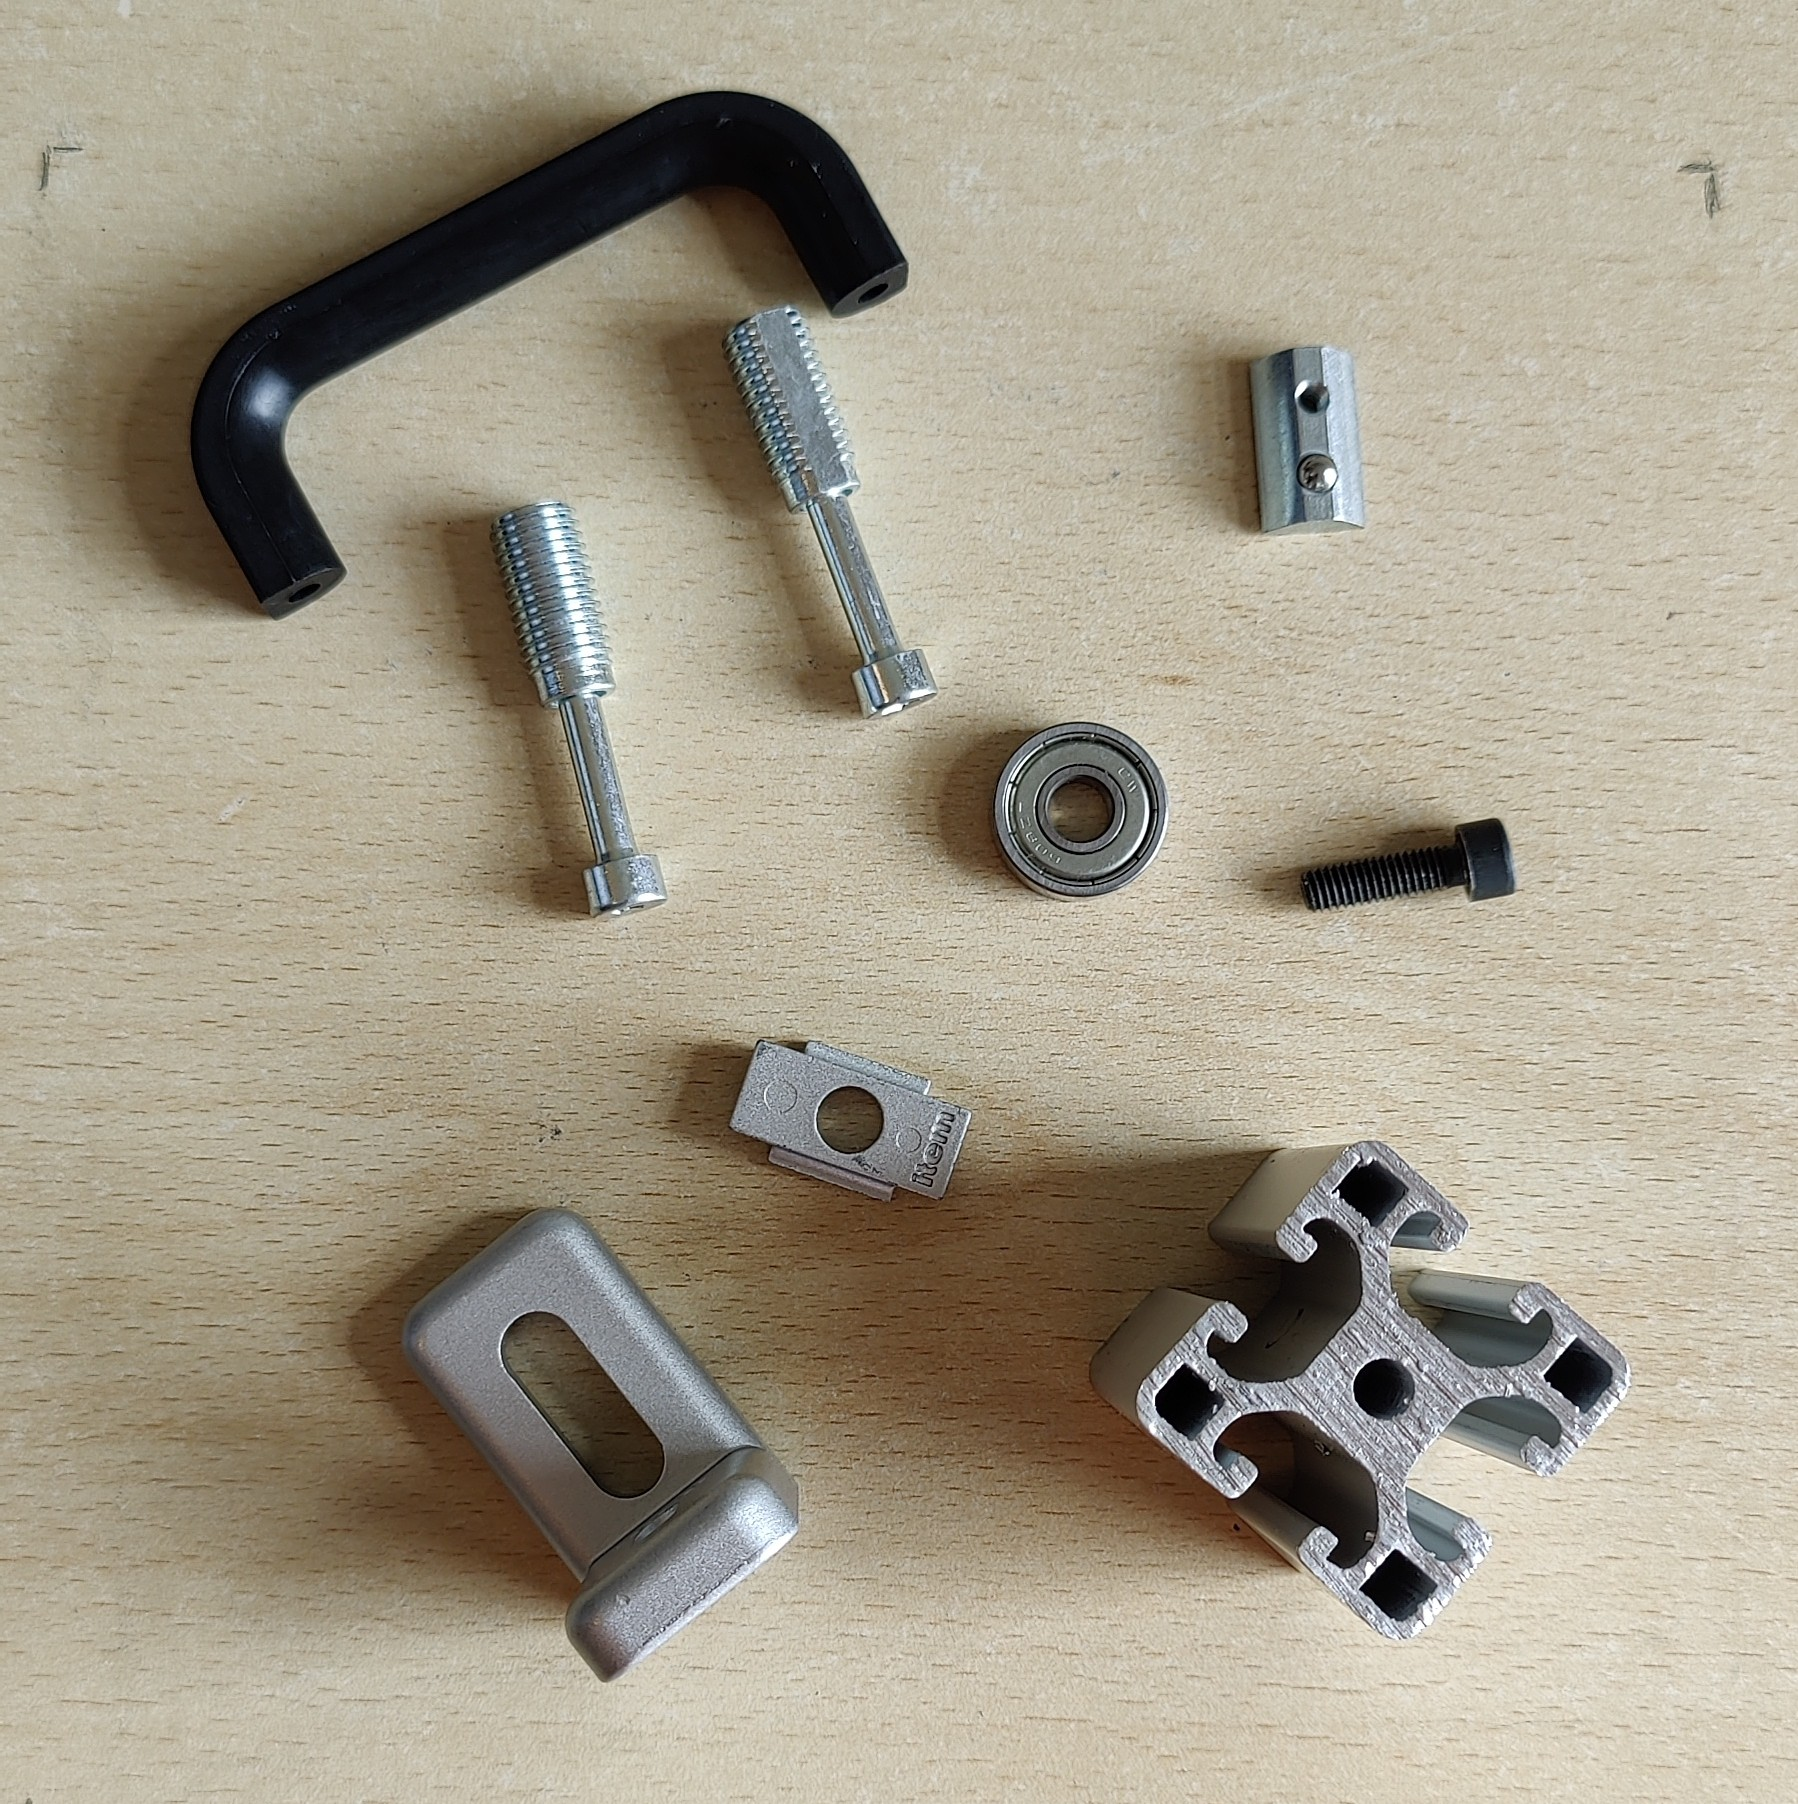Aluminium Extension: (1087, 1141, 1635, 1639)
Ball Bearing: (988, 721, 1171, 904)
Multiwinkel: (398, 1205, 804, 1685)
Pull Handle: (189, 89, 914, 622)
Shoulder Socket Head Cap Screw: (721, 301, 940, 723), (486, 499, 667, 923)
Socket Head Cap Screw: (1297, 815, 1520, 914)
T Nut Square: (728, 1035, 973, 1207)
T Spring Nut: (1246, 341, 1367, 538)
